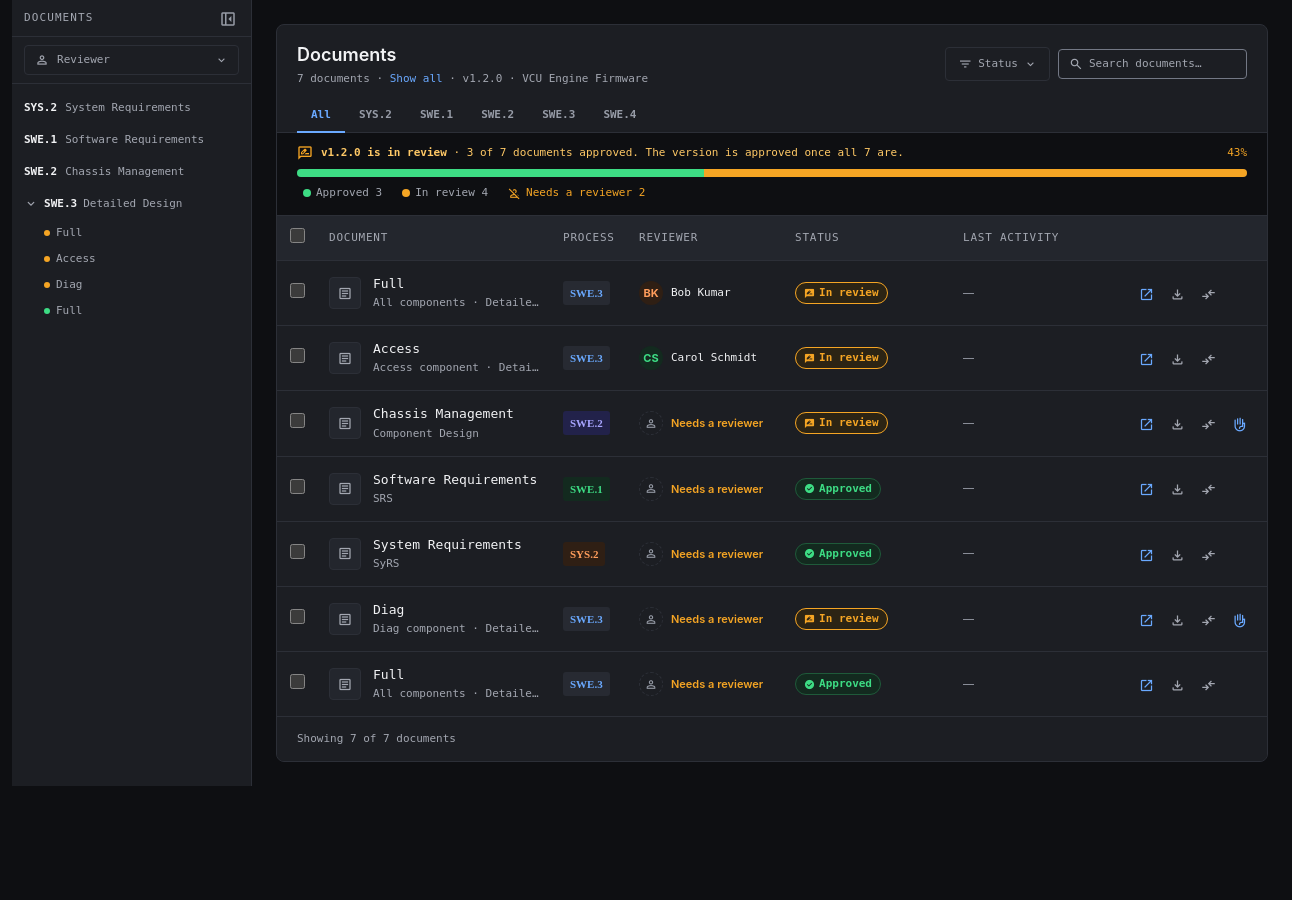
Test case: DocumentsPage: the document list folds › folds to a rail and opens again; the choice is the list page's own
The image size is (1292, 900).
Click the button named "Hide the document list": (228, 18) [217, 6, 239, 30]
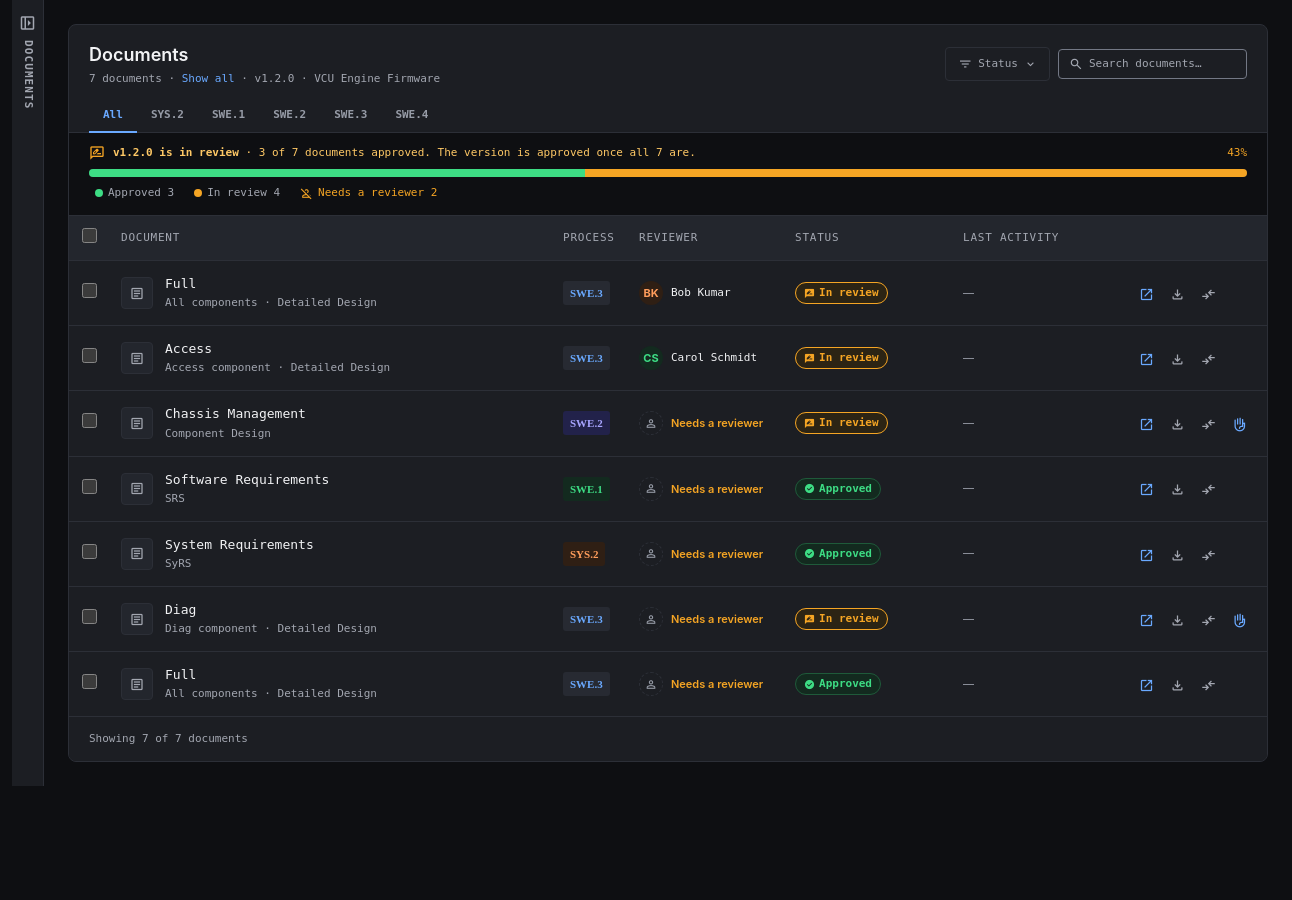
Click the button with aria-label "Show the document list": (28, 62) [12, 8, 43, 116]
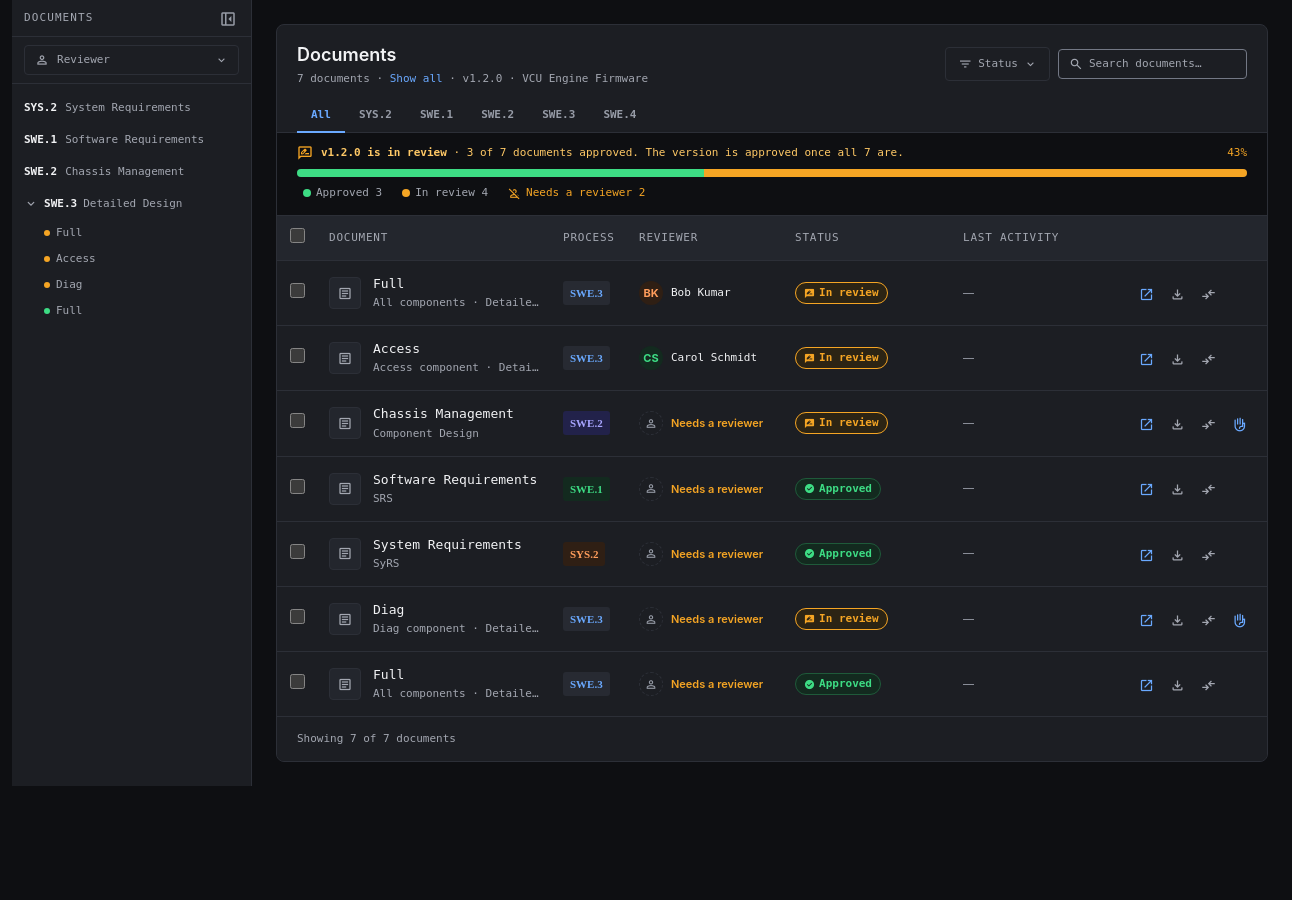
Check: the element "Documents" is shown, box [12, 0, 252, 786]
